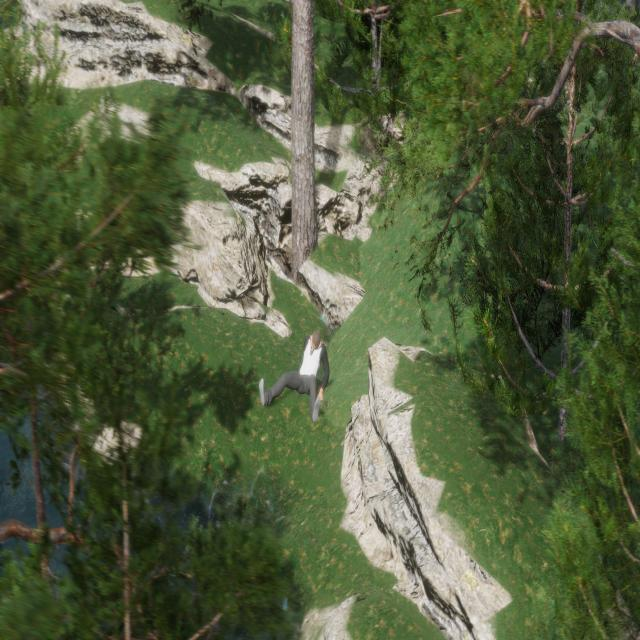Human: (254, 319, 336, 429)
